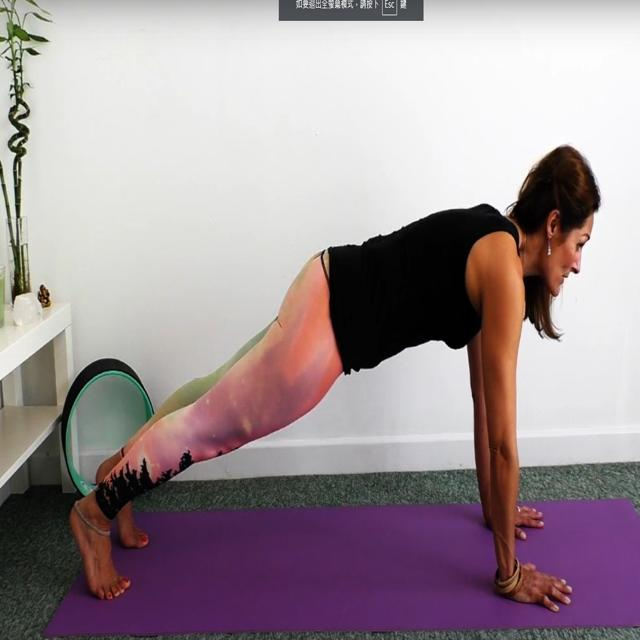Plank_Pose: (56, 138, 613, 626)
